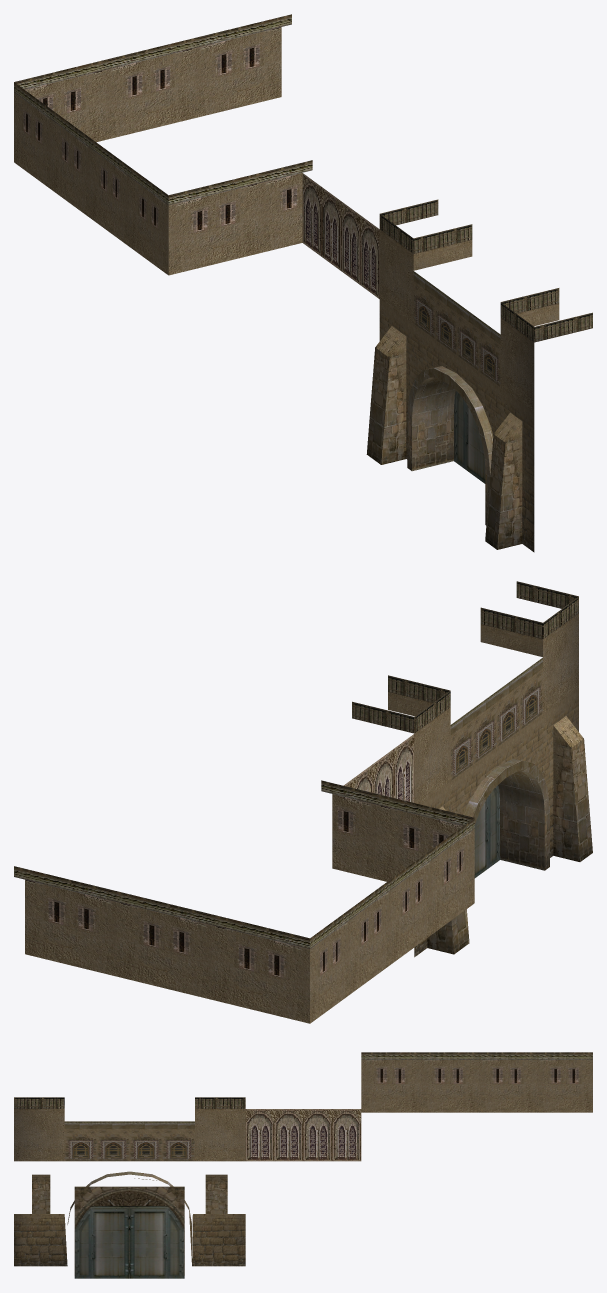
Rendered from M7Z2_WallSection3B.glb.
3 renders of one model, top to bottom at view 1: azimuth 30°, elevation 25°; view 2: azimuth 150°, elevation 25°; view 3: azimuth 270°, elevation 25°, orthographic. The views are drawn at different scales.
Visible parts, largest first — view 1: M7Z2_WALLSECTION3B; view 2: M7Z2_WALLSECTION3B; view 3: M7Z2_WALLSECTION3B.
Part boxes in pixels (bbox=[...]): M7Z2_WALLSECTION3B: bbox=[14, 14, 592, 552]; M7Z2_WALLSECTION3B: bbox=[14, 581, 592, 1023]; M7Z2_WALLSECTION3B: bbox=[14, 1052, 592, 1278].
Bounding box in the file's own units: 16.61 × 12.9 × 40.
Materials: 10 (10 with a texture image).
